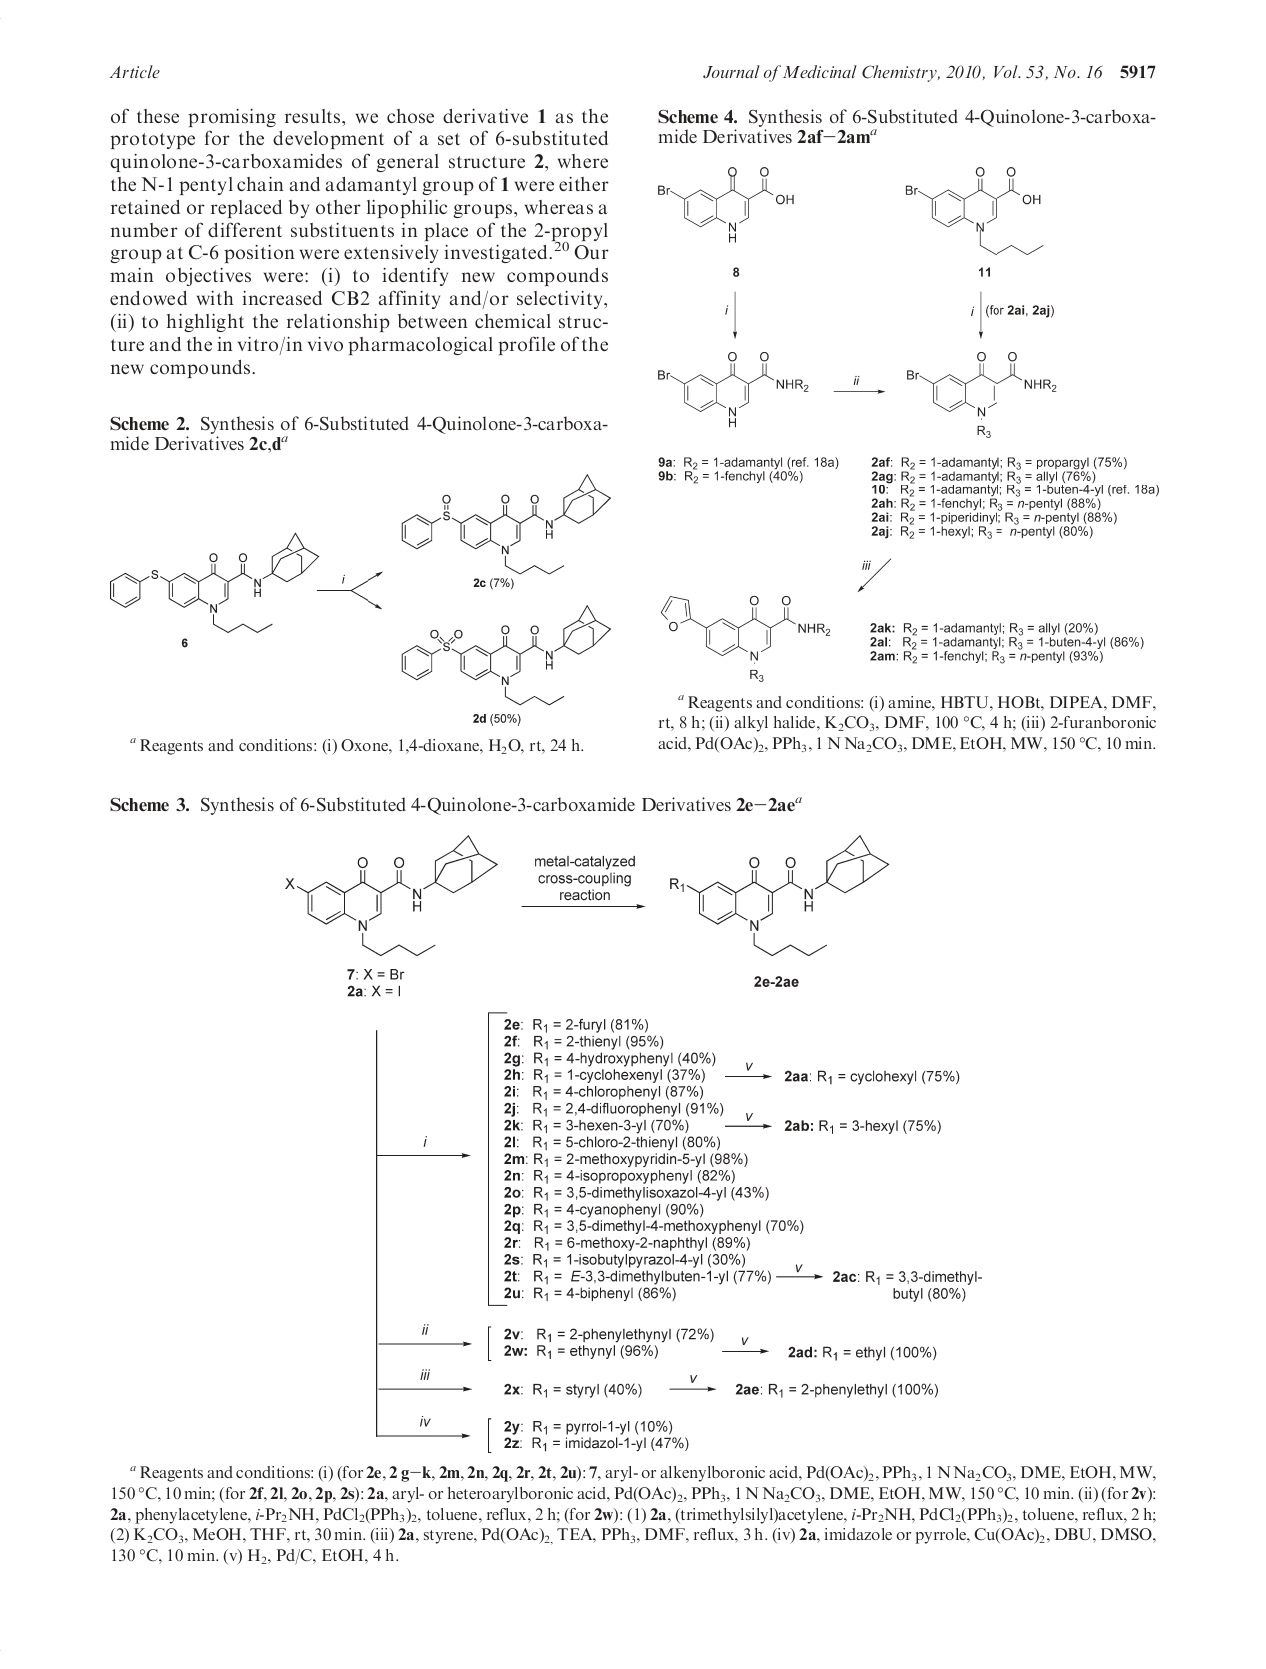exist_molecular: (283, 829, 508, 965), (672, 827, 894, 962), (102, 527, 327, 636), (394, 601, 618, 705), (402, 469, 616, 576), (660, 588, 839, 684), (899, 343, 1063, 442), (902, 157, 1047, 262), (658, 340, 814, 431), (656, 165, 801, 246)
